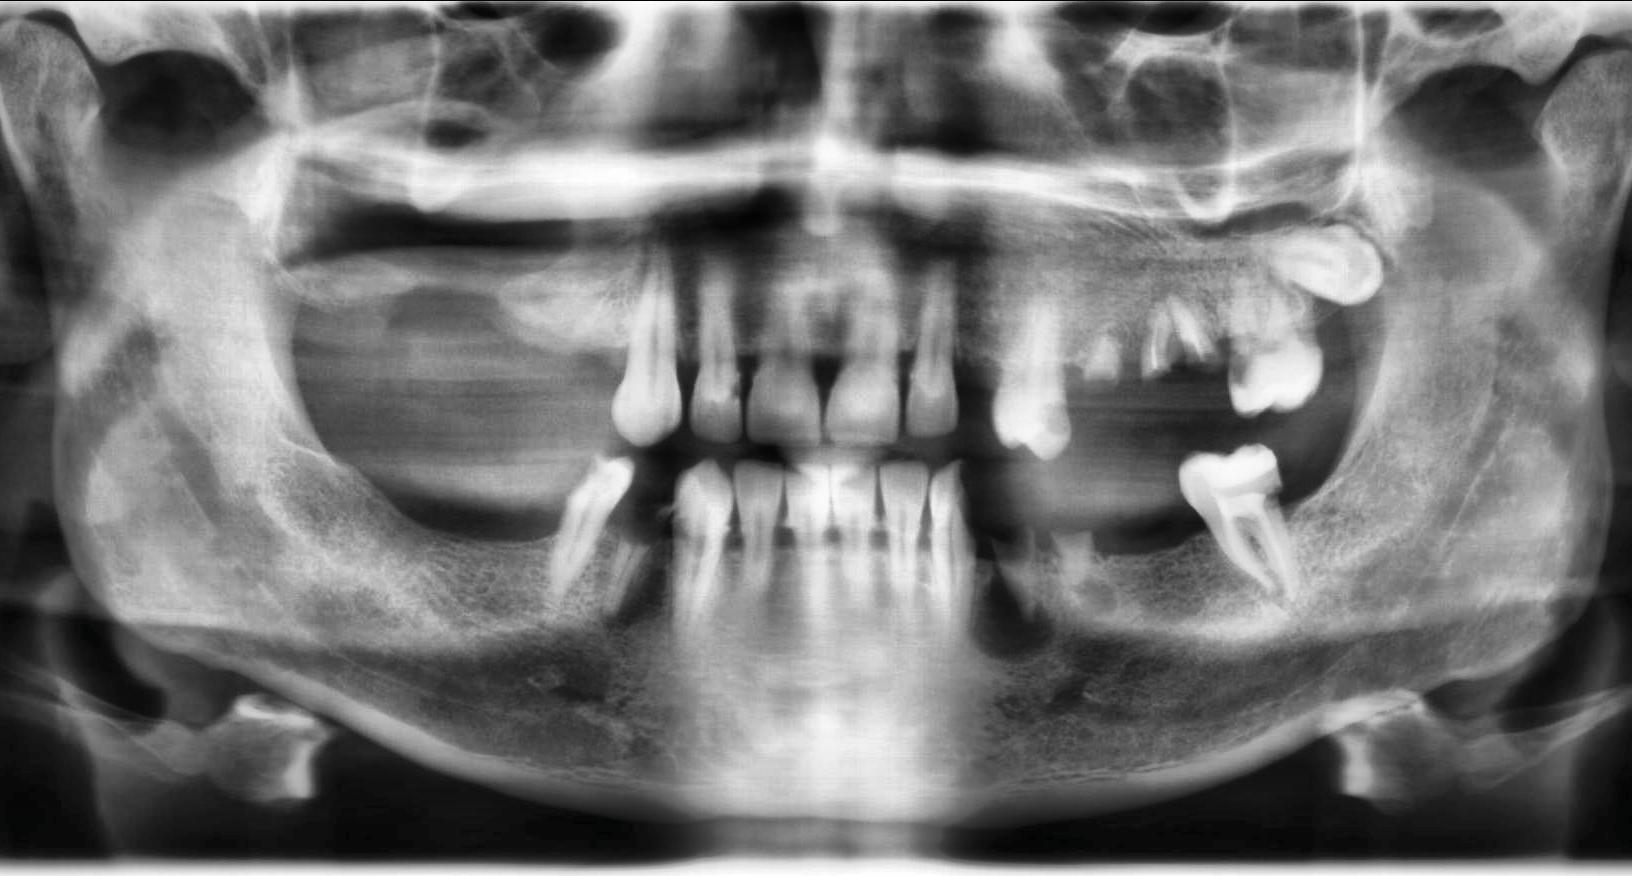radikuler: (968, 560, 1057, 668)
